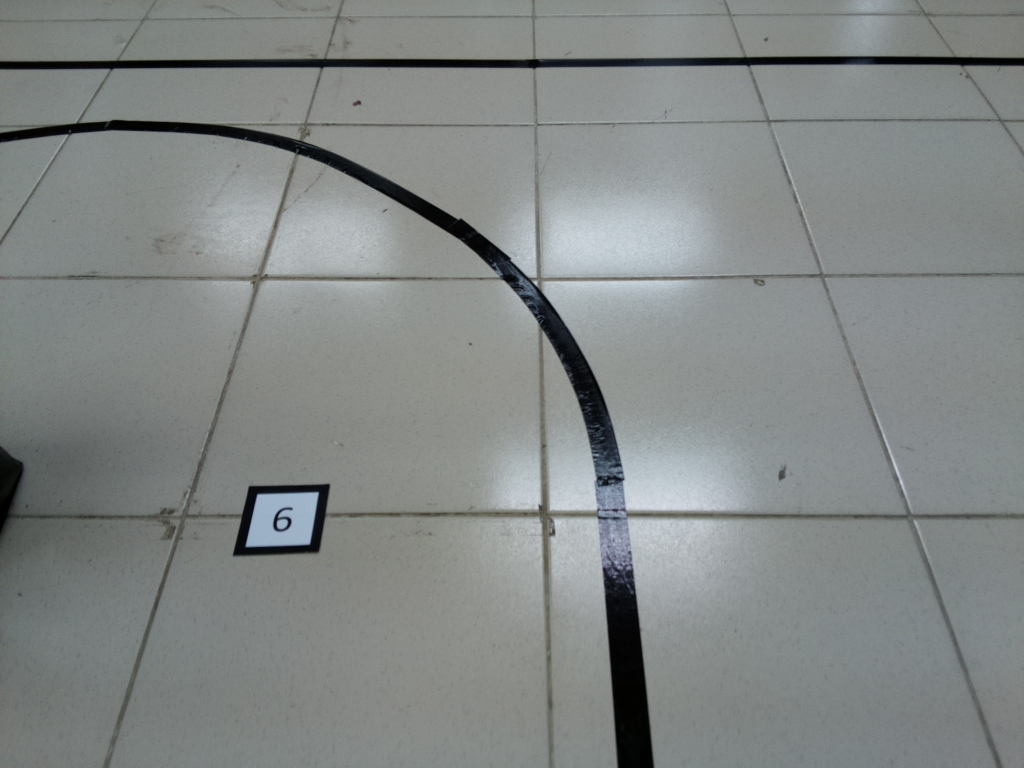left: (1, 113, 682, 480)
